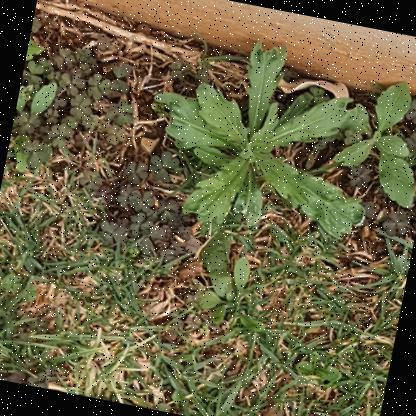Weeds: (131, 23, 393, 251), (307, 62, 415, 216), (192, 250, 281, 342), (6, 74, 67, 174), (291, 348, 346, 393)
